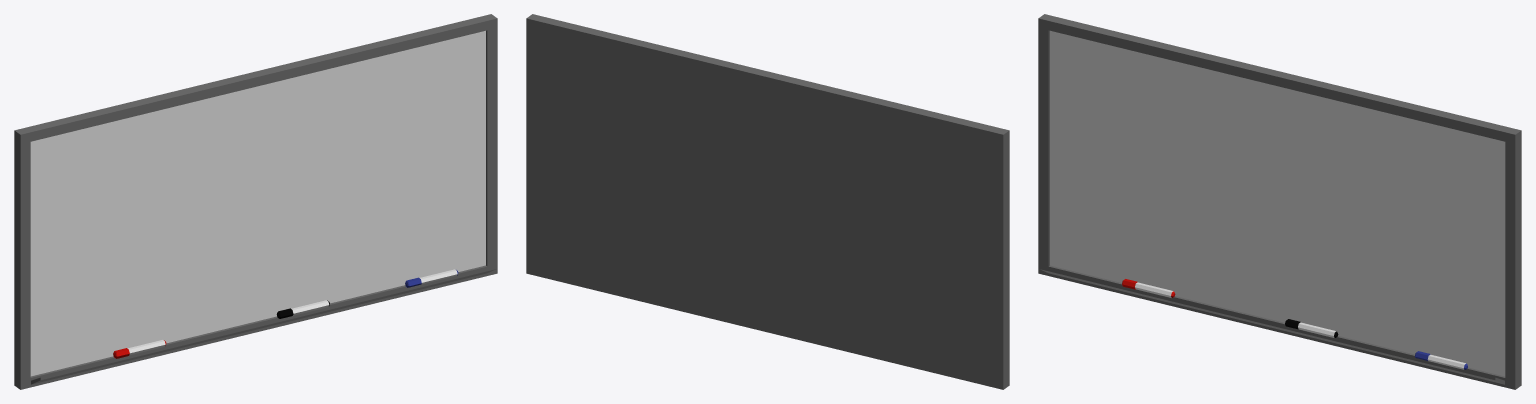
The model's file is P_Board.fbx.
The picture shows the model from 3 angles, left to right: view 1: azimuth 30°, elevation 25°; view 2: azimuth 150°, elevation 25°; view 3: azimuth 330°, elevation 25°; orthographic projection.
Parts seen in each view (by area): view 1: P_Board; view 2: P_Board; view 3: P_Board.
Boxes of the visible parts, x1,y1,x2,y2 form: P_Board: (14, 14, 497, 389); P_Board: (526, 14, 1009, 389); P_Board: (1038, 14, 1521, 389).
Size of the model in its own units: 1284 by 73.39 by 656.
